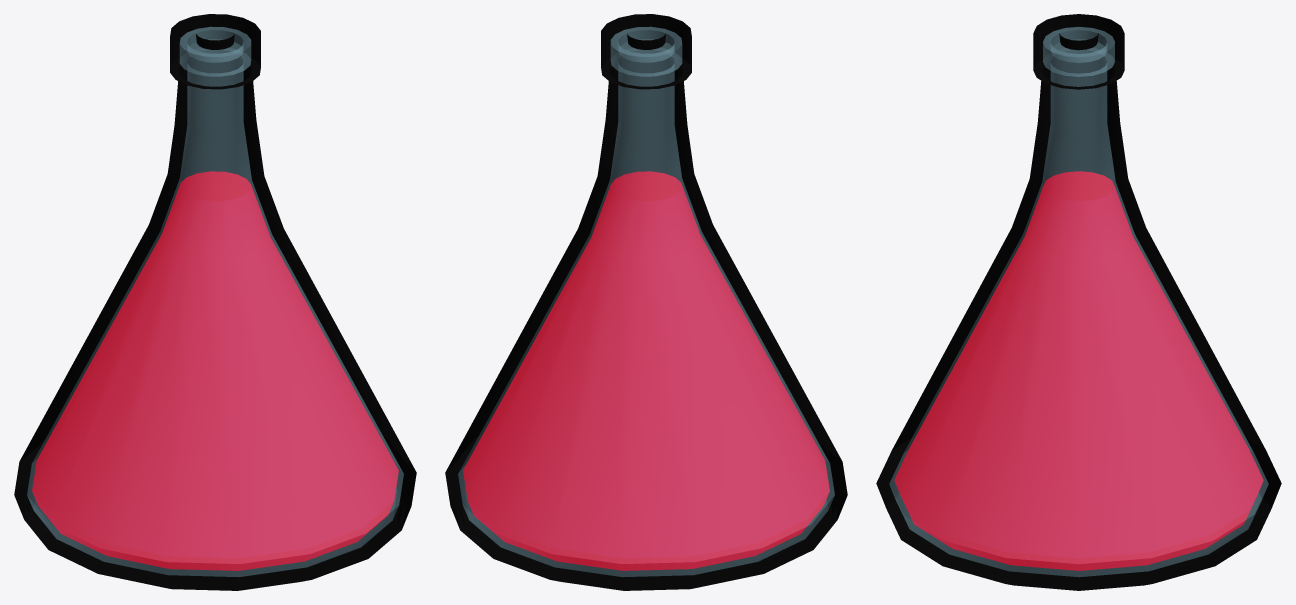
The model's file is rojo cartuchera.fbx.
3 views of the same model, side by side, from view 1: azimuth 30°, elevation 25°; view 2: azimuth 150°, elevation 25°; view 3: azimuth 270°, elevation 25° (orthographic).
Parts seen in each view (by area): view 1: Rojo blood in arms; view 2: Rojo blood in arms; view 3: Rojo blood in arms.
Part boxes in pixels (x1,y1,x2,y2): Rojo blood in arms: (14,14,416,590); Rojo blood in arms: (445,14,847,590); Rojo blood in arms: (876,14,1281,590).
Bounding box in the file's own units: 22.13 × 29.31 × 22.13.
